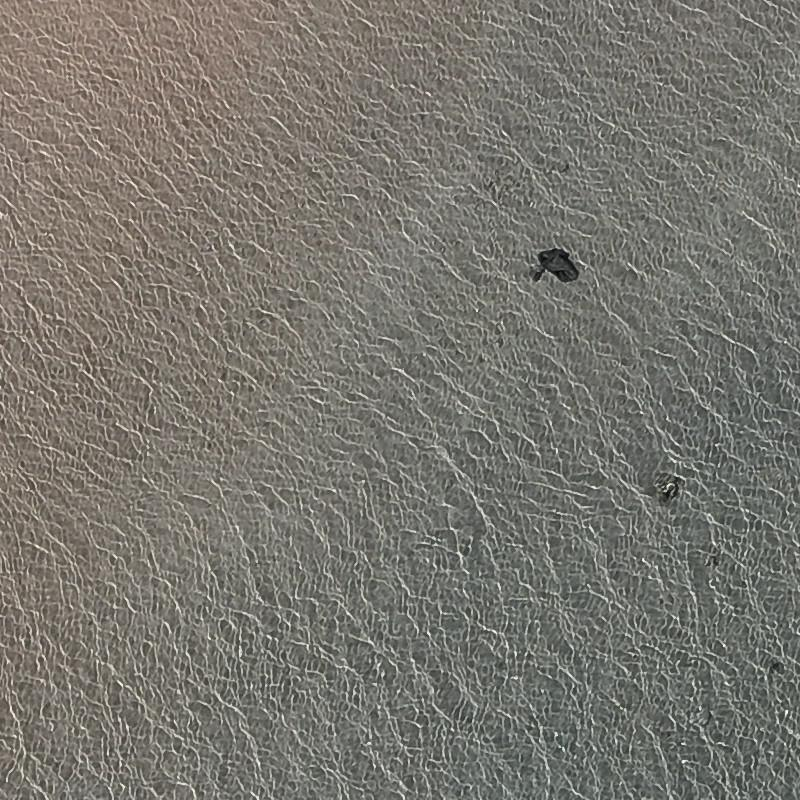coastal_litter: (527, 244, 583, 288)
